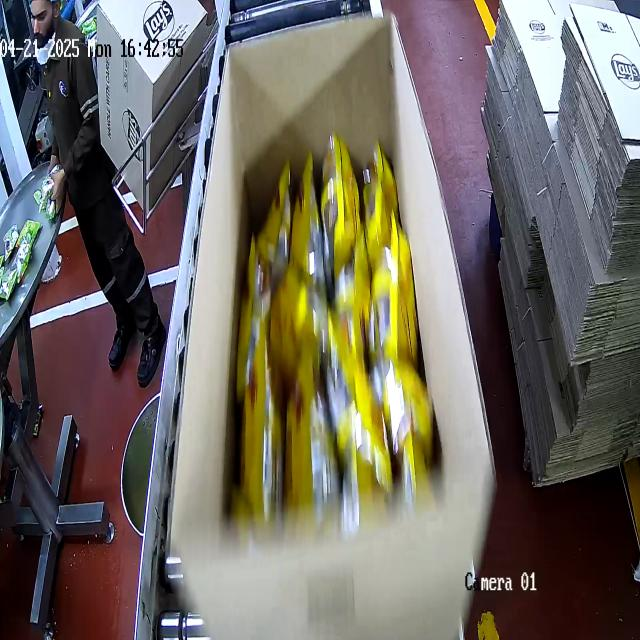SALTED: (243, 146, 442, 505)
